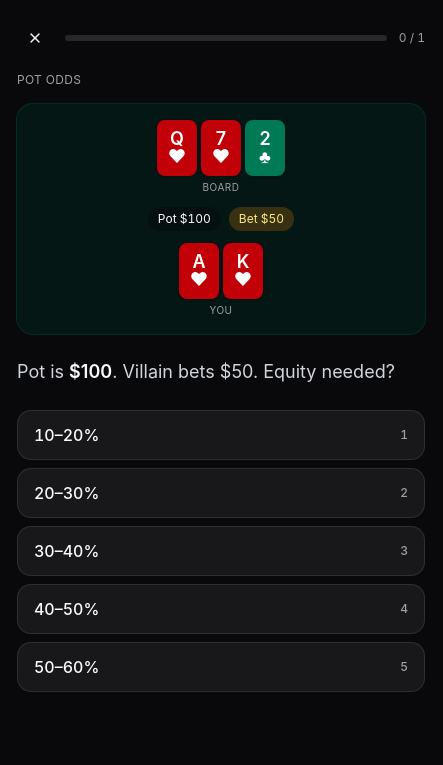
StudyPage, generated cards › answers a bucket card, shows the result, then continues
Expected: the text "Pot is $100. Villain bets $50. Equity needed?" is shown, 17,358 -> 425,386
Expected: the picture named "A of hearts" is shown, 179,243 -> 219,299
What coordinates should you click on to do the following:
click the button "30–40% 3"
I would click on:
 (67, 551)
Its box is 17,526 -> 425,576.
(page scrolled)
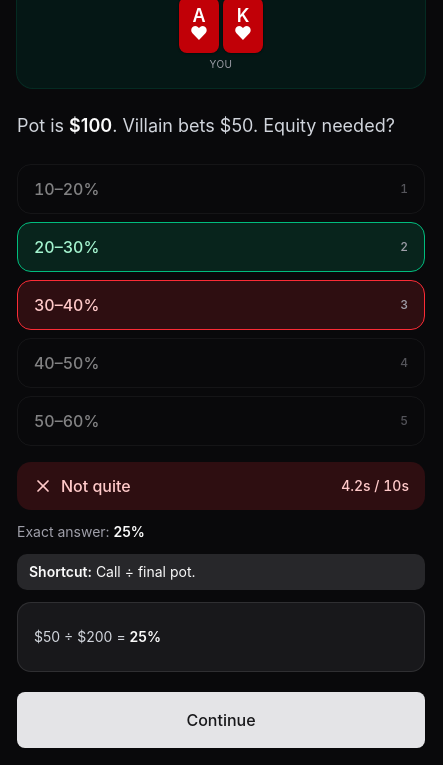
Expected: the text "Not quite" is shown, 61,476 -> 131,496
Expected: the text "25%" next to "Exact answer:" is shown, 114,523 -> 145,540
Expected: the text "Shortcut: Call ÷ final pot." is shown, 17,554 -> 425,590
What coordinates should you click on to do the following:
click the button "Continue"
I would click on:
 (221, 720)
Its box is 17,692 -> 425,748.
(page scrolled)
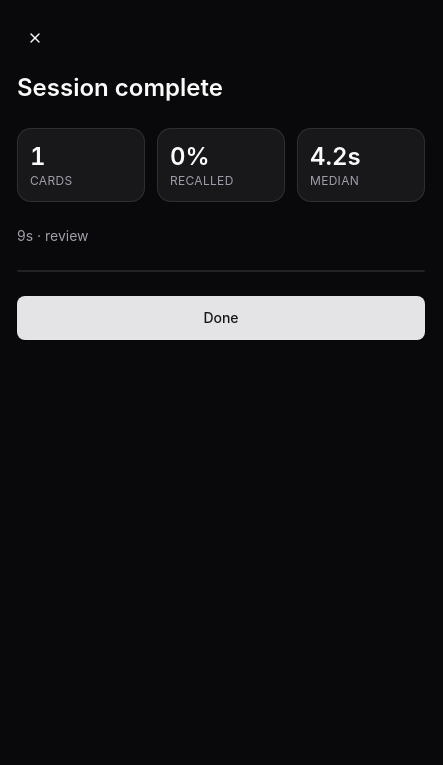
Expected: the heading "Session complete" is shown, 17,73 -> 223,102
